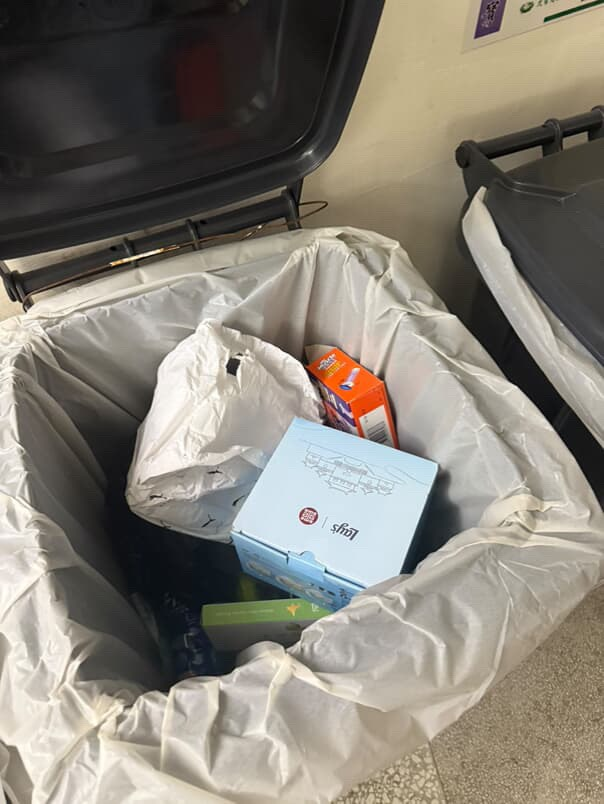overflow_bin: (1, 212, 604, 804)
